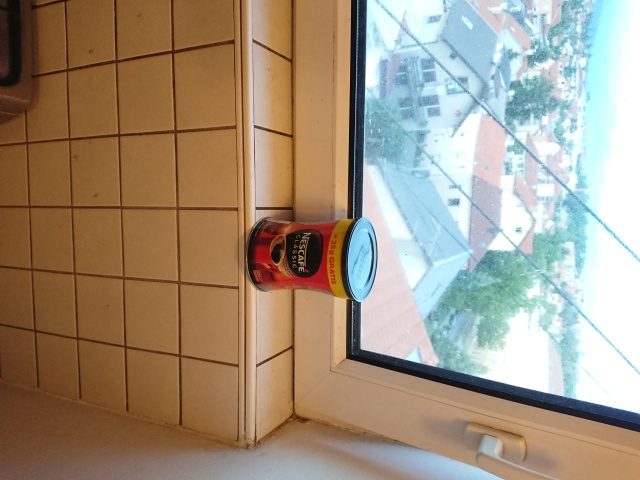Nescafe Classic 225g: (243, 214, 383, 305)
